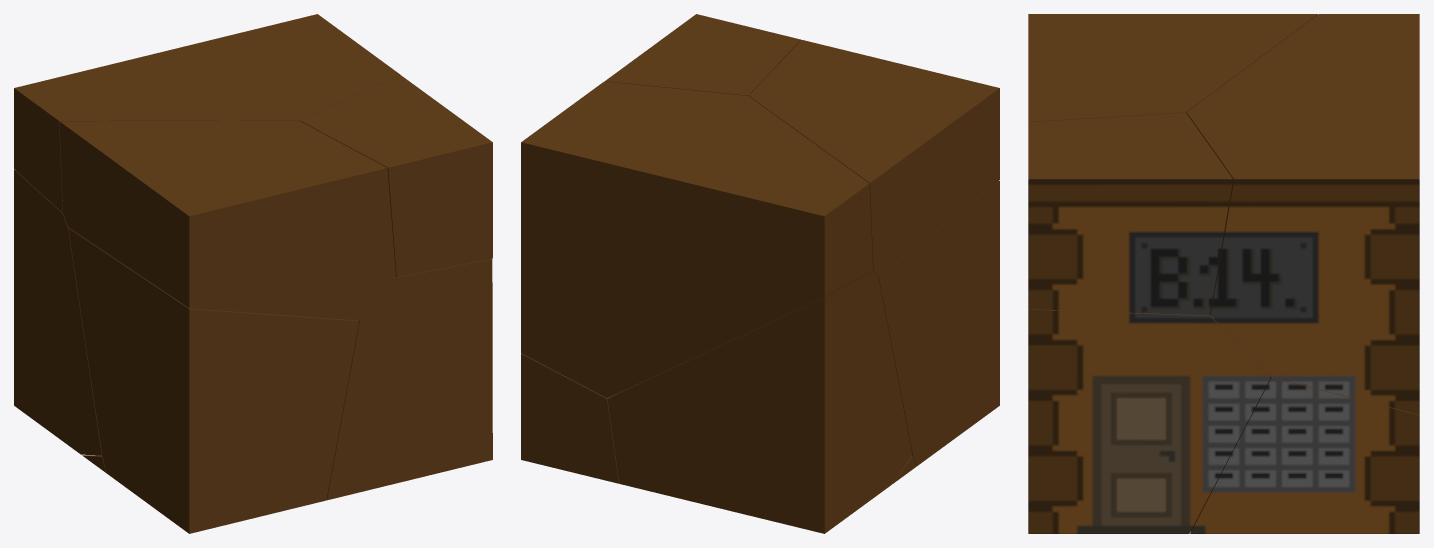
The model's file is BrickBuildingBrown_2_128x128_Ground02_break.fbx.
3 renders of one model, left to right at view 1: azimuth 30°, elevation 25°; view 2: azimuth 150°, elevation 25°; view 3: azimuth 270°, elevation 25°, orthographic. The views are drawn at different scales.
Parts seen in each view (by area): view 1: Ground02Break04, Ground02Break06, Ground02Break08, Ground02Break03, Ground02Break05, Ground02Break01; view 2: Ground02Break03, Ground02Break01, Ground02Break04, Ground02Break06, Ground02Break05, Ground02Break07; view 3: Ground02Break03, Ground02Break08, Ground02Break05, Ground02Break07, Ground02Break04.
Boxes of the visible parts, x1,y1,x2,y2 form: Ground02Break04: (59, 120, 396, 320); Ground02Break06: (68, 228, 359, 533); Ground02Break08: (326, 259, 492, 500); Ground02Break03: (14, 14, 400, 212); Ground02Break05: (300, 75, 492, 277); Ground02Break01: (14, 169, 102, 454); Ground02Break03: (521, 81, 872, 397); Ground02Break01: (607, 271, 912, 533); Ground02Break04: (749, 40, 999, 276); Ground02Break06: (878, 181, 999, 466); Ground02Break05: (605, 14, 800, 95); Ground02Break07: (521, 353, 645, 483); Ground02Break03: (1186, 14, 1419, 414); Ground02Break08: (1028, 309, 1270, 533); Ground02Break05: (1028, 112, 1233, 315); Ground02Break07: (1190, 377, 1419, 533); Ground02Break04: (1028, 14, 1318, 122).
Bounding box in the file's own units: 100 × 100 × 100.
Materials: 1 (1 with a texture image).
